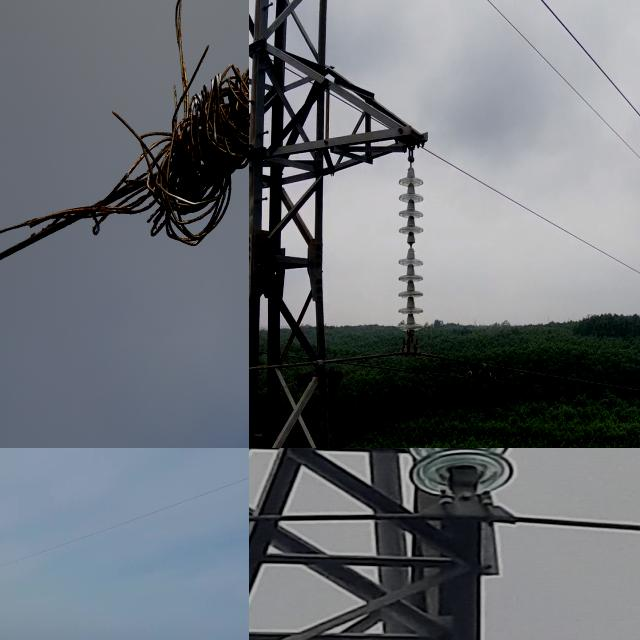杆塔: (249, 0, 438, 448), (249, 448, 515, 640)
正常电缆: (413, 129, 640, 287), (476, 0, 640, 170), (530, 0, 640, 132)
正常绝缘子: (370, 448, 532, 524), (391, 147, 429, 347)
电缆破损: (97, 0, 249, 292)
绝缘子破损: (406, 238, 416, 254)
